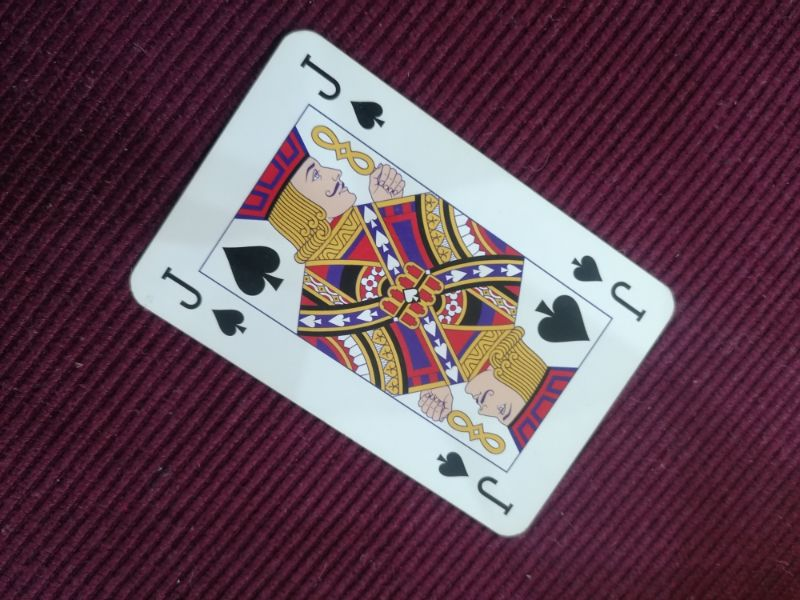Js: (299, 52, 389, 131), (158, 265, 248, 339), (567, 251, 651, 328), (433, 447, 516, 518)
